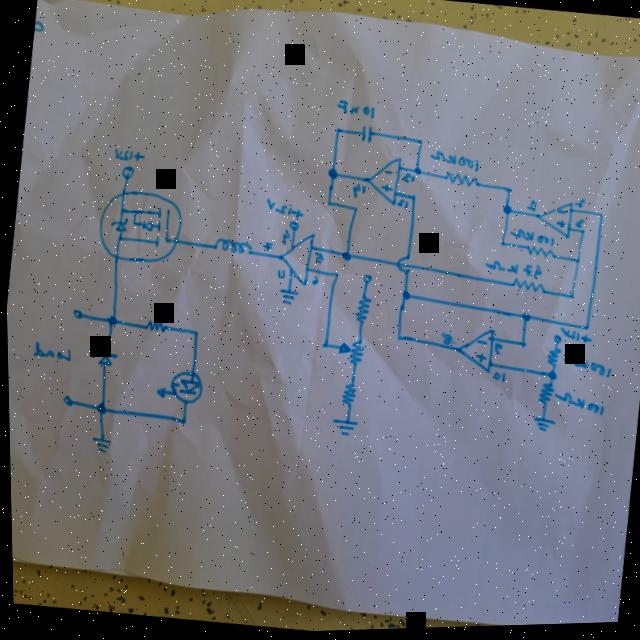capacitor: (357, 124, 376, 147)
crossover: (394, 255, 412, 276)
diode: (150, 365, 207, 408), (93, 347, 119, 371)
ground: (326, 416, 359, 441), (87, 433, 113, 456), (274, 287, 300, 309), (530, 418, 557, 436)
inductor: (212, 237, 253, 257)
junction: (91, 400, 108, 418), (397, 289, 413, 305), (102, 313, 117, 329), (325, 168, 339, 183), (339, 251, 352, 265), (500, 206, 513, 219), (317, 340, 330, 353), (329, 270, 342, 283), (411, 167, 423, 179), (501, 187, 514, 198), (520, 314, 531, 326), (189, 327, 200, 339), (391, 334, 403, 345), (516, 340, 527, 352), (176, 416, 187, 427), (415, 138, 426, 149), (571, 258, 582, 269), (349, 205, 360, 216), (495, 241, 507, 251), (580, 326, 591, 336), (322, 199, 332, 210), (565, 294, 576, 304), (544, 374, 556, 383), (333, 127, 343, 137), (596, 214, 605, 222), (408, 195, 416, 204), (577, 231, 585, 238)
resistor: (334, 337, 366, 369), (441, 171, 480, 192), (508, 279, 546, 298), (351, 294, 372, 328), (337, 381, 359, 409), (140, 317, 169, 336), (523, 246, 553, 262), (535, 383, 554, 408), (545, 350, 560, 370)
terminal: (57, 392, 76, 409), (117, 164, 136, 180), (70, 306, 83, 320), (287, 220, 301, 232), (360, 274, 372, 286), (551, 337, 560, 346)
text: (551, 392, 607, 420), (427, 149, 483, 175), (482, 259, 541, 283), (560, 356, 612, 382), (28, 338, 74, 365), (262, 197, 305, 224), (508, 229, 555, 250), (334, 100, 377, 122), (111, 147, 146, 164), (557, 330, 591, 347), (351, 184, 367, 200), (488, 372, 505, 387), (401, 173, 416, 187), (439, 335, 453, 349), (395, 200, 410, 212), (307, 276, 320, 289), (280, 229, 289, 247), (525, 202, 537, 215), (313, 253, 324, 266), (260, 242, 273, 253), (274, 268, 285, 281), (574, 200, 585, 212), (492, 344, 501, 358), (573, 221, 584, 232)
transistor: (89, 184, 186, 268)
